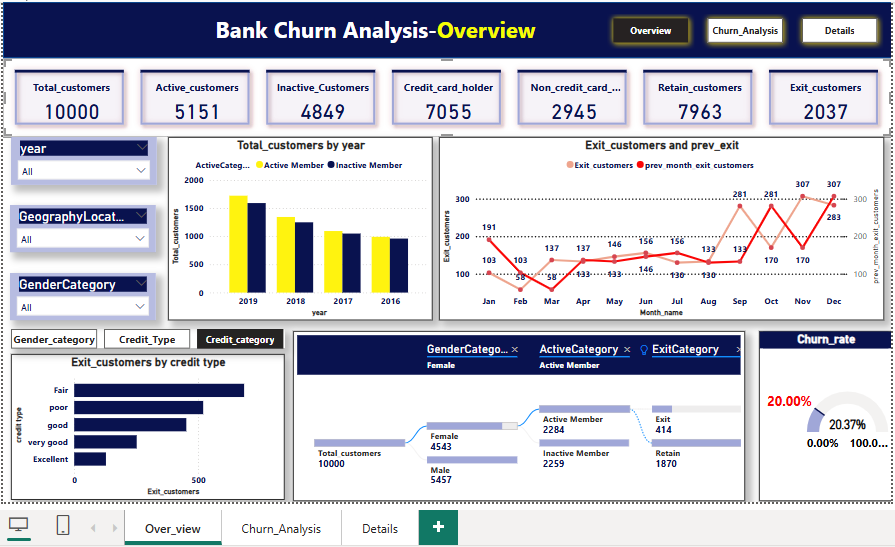

Layout of this report page (visuals, bound fields, positions):
{"tool":"powerbi","page":{"name":"Over_view","canvas":[1280,720],"ordinal":0},"visuals":[{"type":"cardVisual","fields":{"Data":["Calculations.Total_customers","Calculations.Active_customers","Calculations.Inactive_Customers","Calculations.Credit_card_holder","Calculations.Non_credit_card_holders","Calculations.Retain_customers","Calculations.Exit_customers"]},"box":[0,80.8,1280,113.4],"z":0},{"type":"shape","box":[0,0,1280,80.8],"z":1000},{"type":"textbox","box":[300.8,12.2,578.4,56.3],"z":2000},{"type":"slicer","fields":{"Values":["Date_Master.year"]},"box":[10.9,194.2,209.9,68.8],"z":3000},{"type":"slicer","fields":{"Values":["Gender.GenderCategory"]},"box":[10.3,390.3,209.9,68.3],"z":4000},{"type":"slicer","fields":{"Values":["Geography.GeographyLocation"]},"box":[10.3,292.4,209.9,68.3],"z":5000},{"type":"clusteredColumnChart","title":"Total_customers by year","fields":{"Category":["Date_Master.year"],"Y":["Calculations.Total_customers"],"Series":["ActiveCustomer.ActiveCategory"]},"box":[238.3,194.5,381.2,264],"z":6000},{"type":"lineChart","title":"Exit_customers and prev_exit ","fields":{"Category":["Date_Master.Month_name"],"Y":["Calculations.Exit_customers"],"Y2":["Calculations.prev_exit"]},"box":[628.5,194.4,640.8,264.1],"z":7000},{"type":"barChart","fields":{"Y":["Calculations.Exit_customers"],"Category":["Bank_Churn.credit type"]},"box":[12.2,507.5,393.8,210.3],"z":9000},{"type":"decompositionTreeVisual","fields":{"Analyze":["Calculations.Total_customers"],"ExplainBy":["Gender.GenderCategory","ActiveCustomer.ActiveCategory","Exit_customers.ExitCategory"]},"box":[417,473.2,650.5,244.6],"z":11000},{"type":"bookmarkNavigator","box":[12.2,470.8,393.8,28.1],"z":12000},{"type":"gauge","fields":{"Y":["Calculations.Churn_rate"]},"box":[1088.3,473.2,192,244.6],"z":13000},{"type":"bookmarkNavigator","box":[869.8,14.4,398.9,53.3],"z":14000}]}

Visuals, with their boxes in screenshot pixels (x1, y1, x2, y2):
cardVisual - Calculations.Total_customers x Calculations.Active_customers: <bbox>5, 67, 887, 146</bbox>
shape: <bbox>5, 12, 887, 67</bbox>
textbox: <bbox>212, 20, 611, 59</bbox>
slicer - Date_Master.year: <bbox>12, 146, 157, 193</bbox>
slicer - Gender.GenderCategory: <bbox>12, 281, 156, 328</bbox>
slicer - Geography.GeographyLocation: <bbox>12, 213, 156, 260</bbox>
"Total_customers by year" clusteredColumnChart: <bbox>169, 146, 432, 328</bbox>
"Exit_customers and prev_exit " lineChart: <bbox>438, 146, 880, 328</bbox>
barChart - Calculations.Exit_customers x Bank_Churn.credit type: <bbox>13, 362, 285, 507</bbox>
decompositionTreeVisual - Calculations.Total_customers x Gender.GenderCategory: <bbox>292, 338, 741, 507</bbox>
bookmarkNavigator: <bbox>13, 336, 285, 356</bbox>
gauge - Calculations.Churn_rate: <bbox>755, 338, 887, 507</bbox>
bookmarkNavigator: <bbox>604, 22, 879, 58</bbox>
